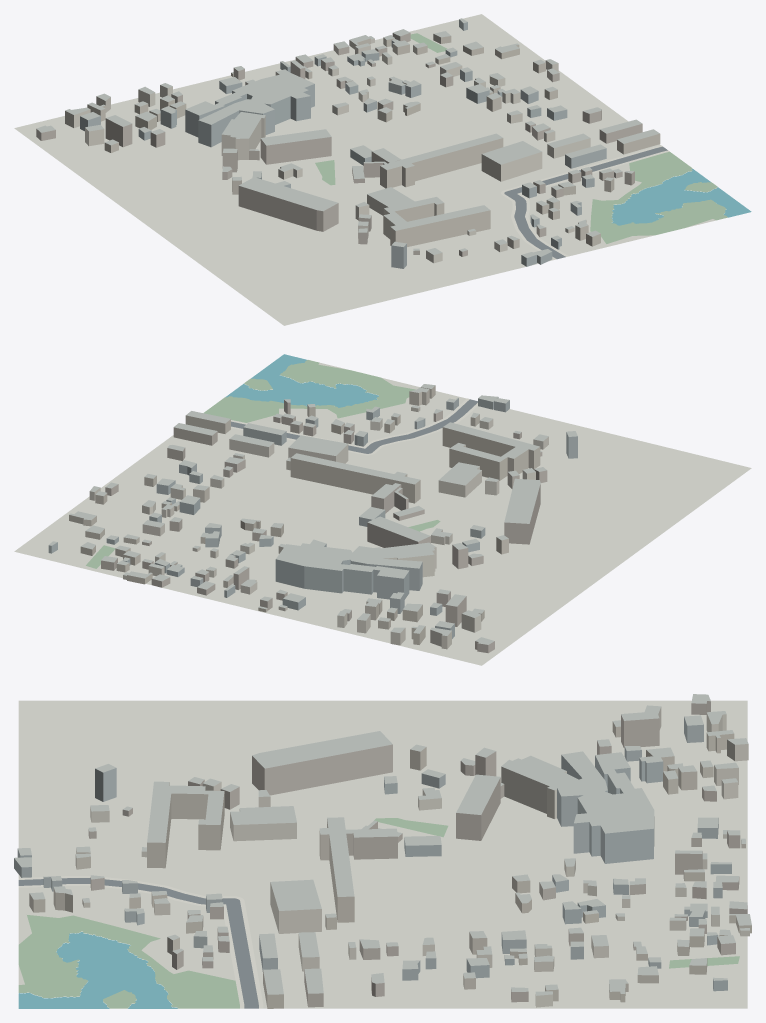
3 views of the same model, one above another, from view 1: azimuth 30°, elevation 25°; view 2: azimuth 150°, elevation 25°; view 3: azimuth 270°, elevation 25° (orthographic). The views are drawn at different scales.
Visible parts, largest first — view 1: city; view 2: city; view 3: city.
Part boxes in pixels (x1,y1,x2,y2): city: [14, 14, 751, 325]; city: [14, 354, 751, 665]; city: [14, 694, 751, 1008].
Size of the model in its own units: 501 by 23.18 by 506.
